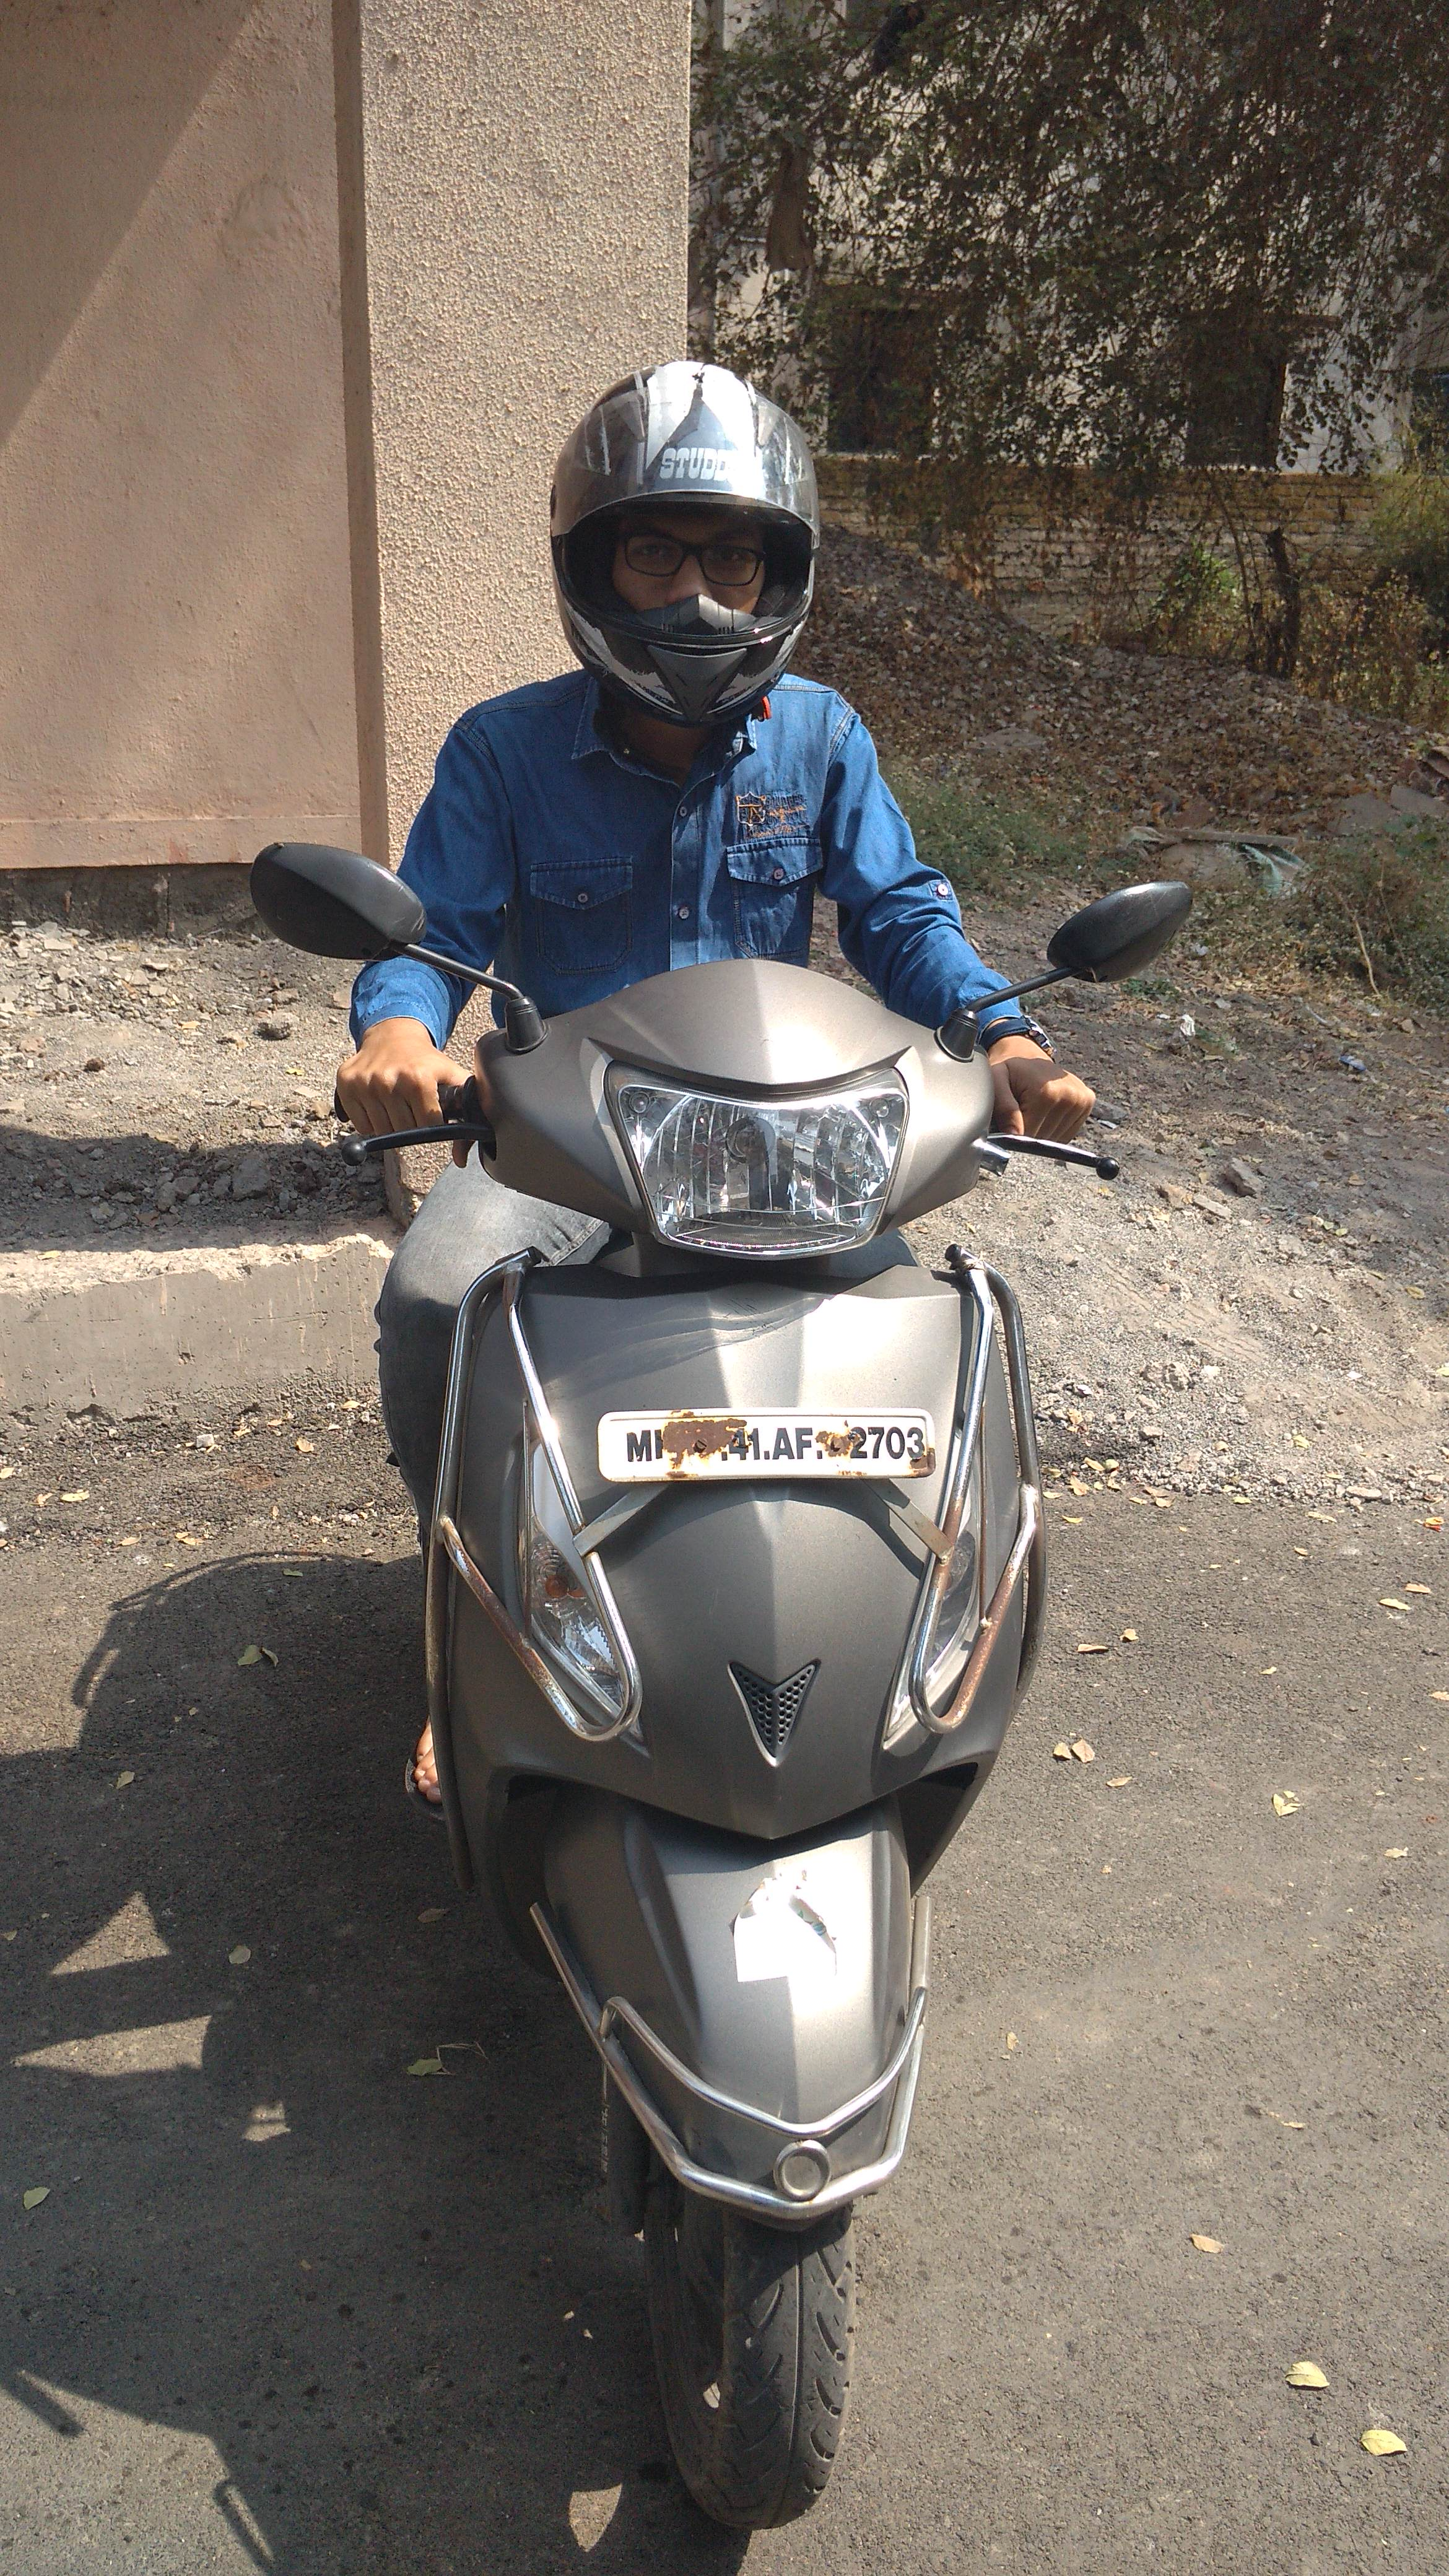helmet: (110, 313, 1215, 2443)
